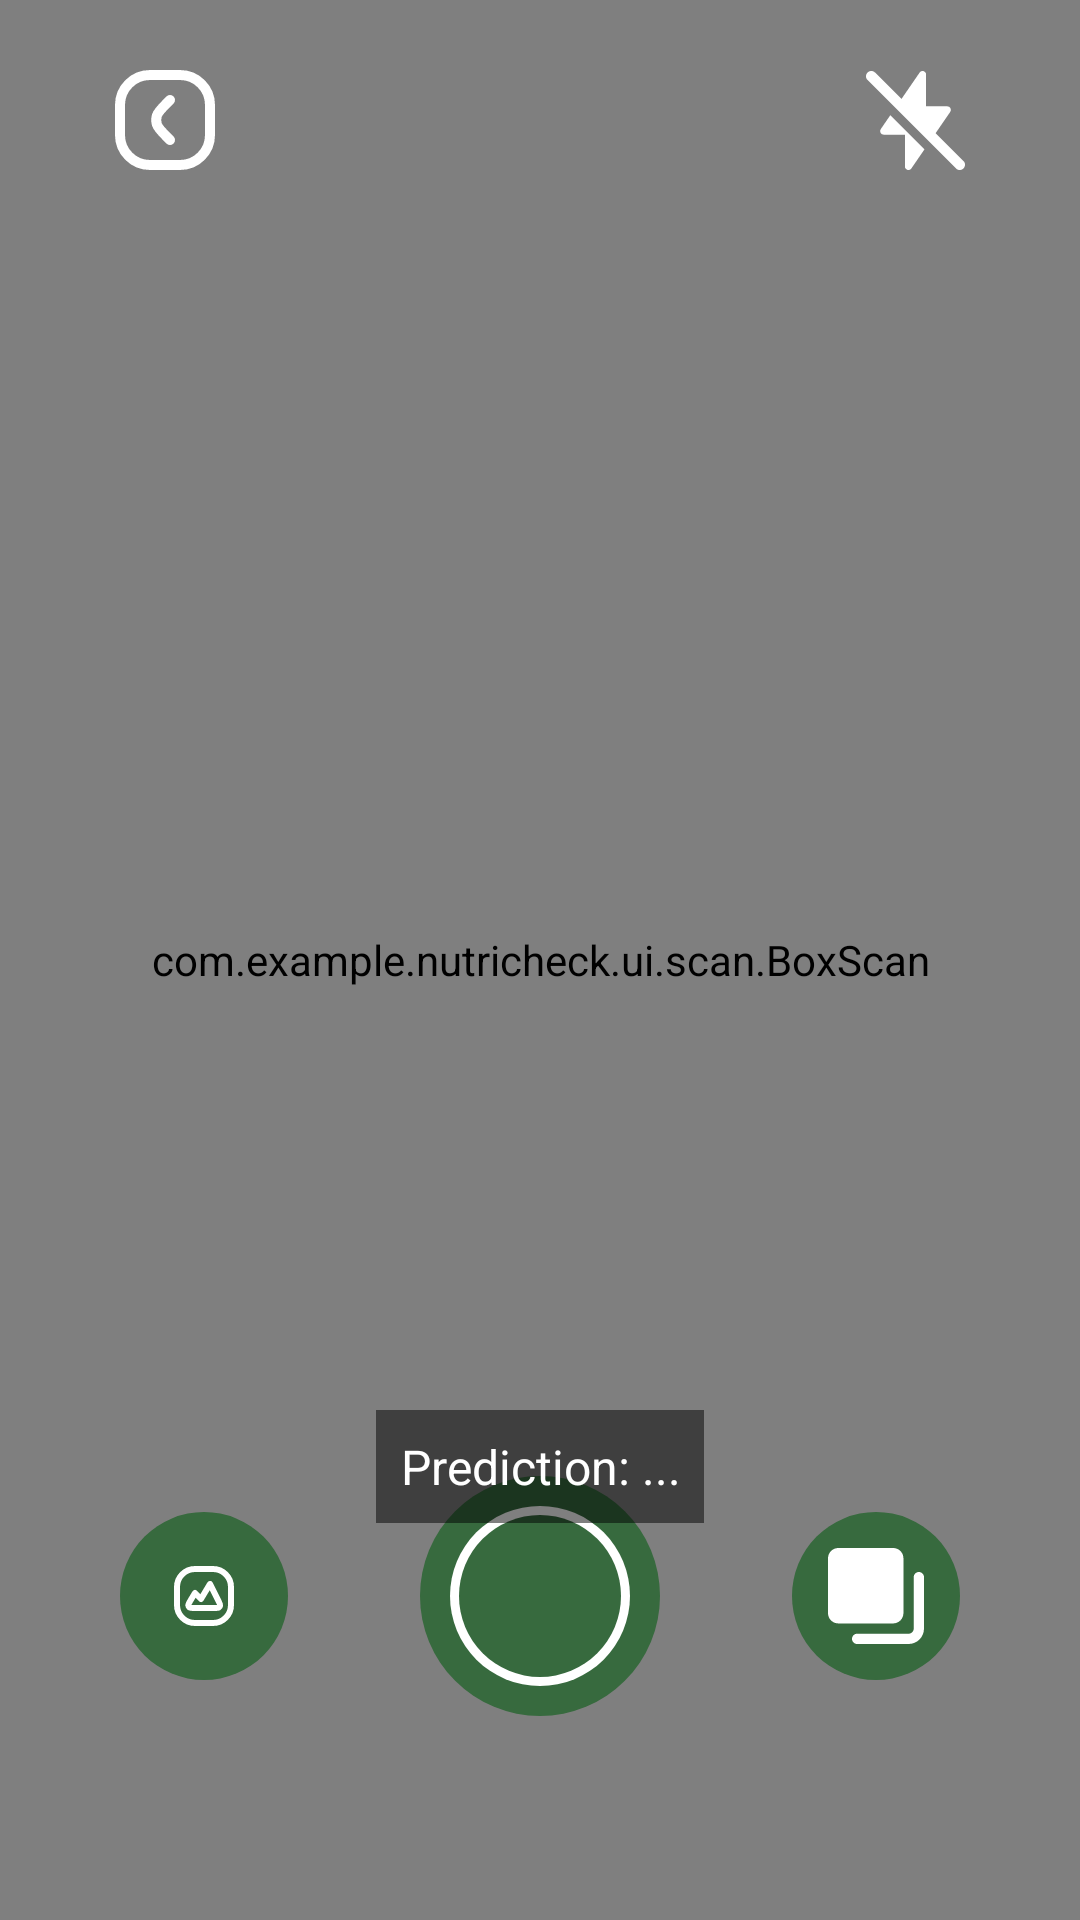

Point at icon controls on the screen. Image size 1080 × 1920, points as (x=x, y=y).
flash off: (x=915, y=120)
Kembali: (x=165, y=120)
